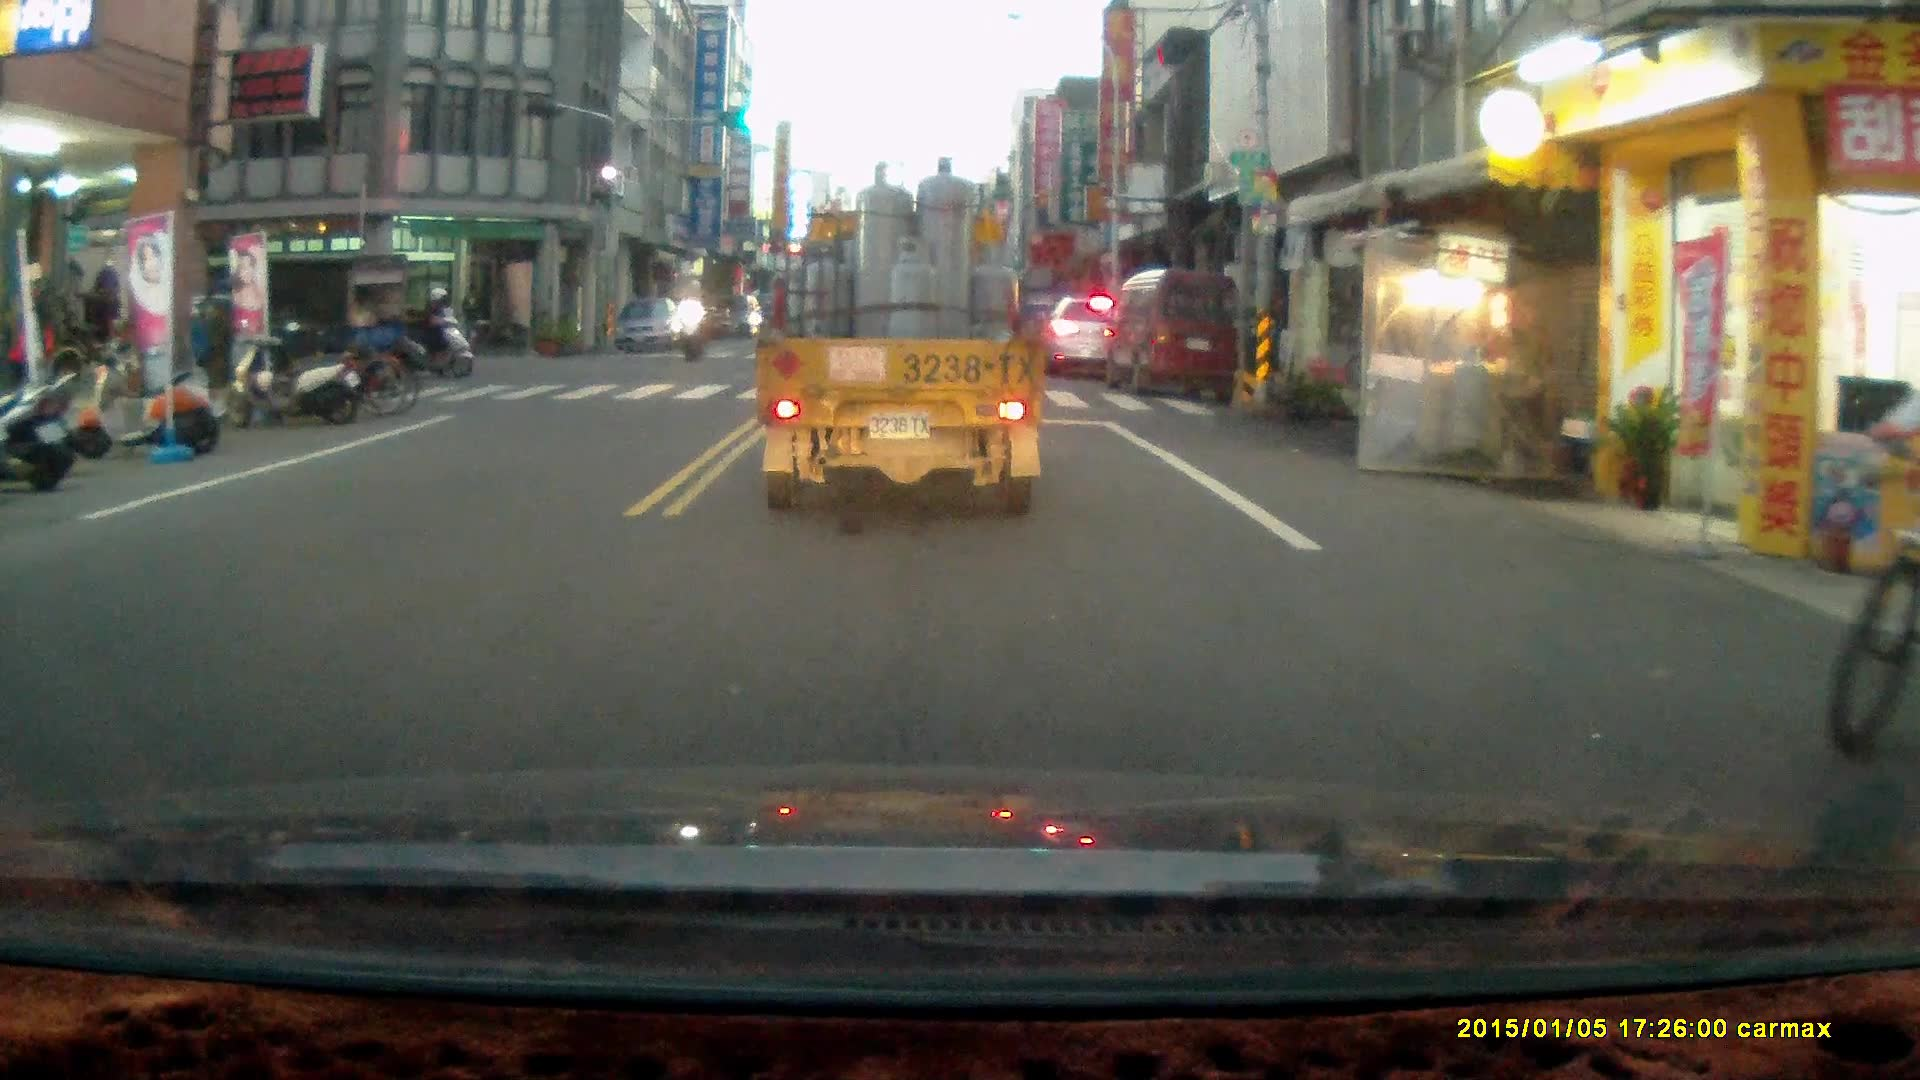pedestrian: (86, 265, 124, 375), (459, 279, 483, 354)
rider: (1826, 317, 1920, 763), (403, 284, 476, 382), (670, 274, 716, 364)
vehicle: (753, 162, 1038, 518), (157, 247, 419, 389), (1101, 267, 1245, 404), (1045, 298, 1128, 380), (614, 295, 686, 357)
